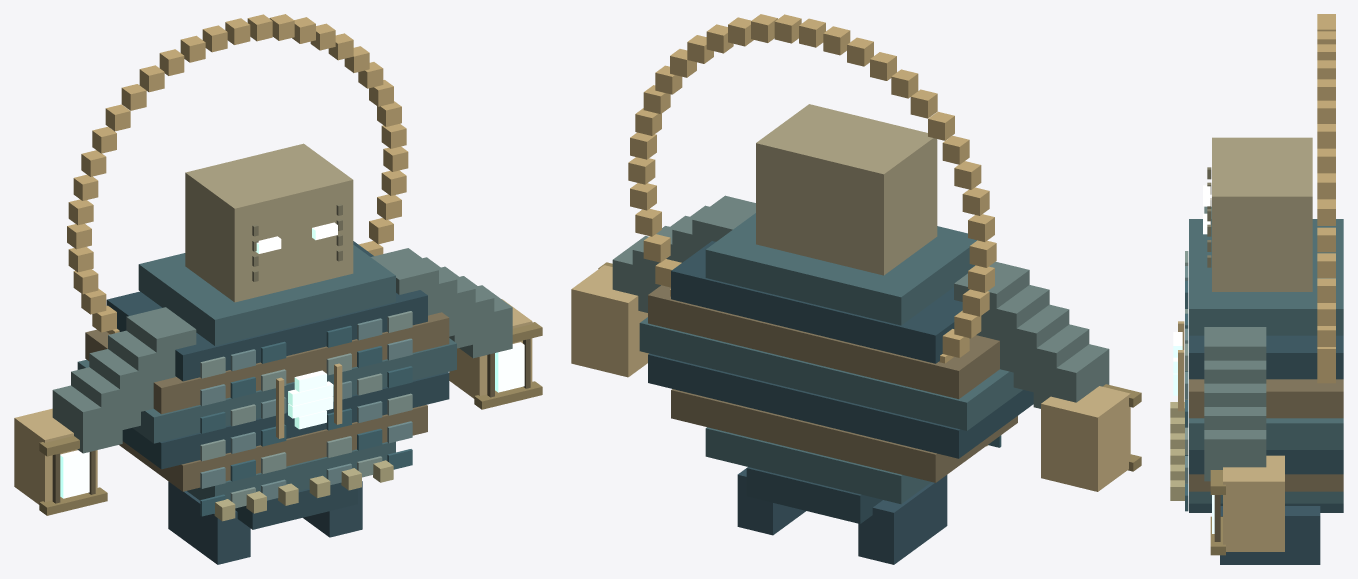
File: boss-tide.glb
3 views of the same model, side by side, from view 1: azimuth 30°, elevation 25°; view 2: azimuth 150°, elevation 25°; view 3: azimuth 270°, elevation 25° (orthographic). The views are drawn at different scales.
Parts seen in each view (by area): view 1: Astral_Armor, Lantern_Mask, Articulated_Arms, Astral_Halo, Inlaid_Armor_Tiles, Tidal_Lantern, Pedestal_Feet, Lantern_Rims, Tidal_Flame, Chest_Stars, Chest_Astrolabe, Lantern_Guards (+2 smaller); view 2: Astral_Armor, Lantern_Mask, Astral_Halo, Articulated_Arms, Tidal_Lantern, Pedestal_Feet; view 3: Astral_Armor, Lantern_Mask, Articulated_Arms, Astral_Halo, Tidal_Lantern, Pedestal_Feet, Chest_Stars, Inlaid_Armor_Tiles, Lantern_Rims, Astrolabe_Frame, Chest_Astrolabe, Weathered_Mask_Grooves (+2 smaller).
Boxes of the visible parts, x1=… form: Astral_Armor: x1=77, y1=241, x2=456, y2=529; Lantern_Mask: x1=185, y1=143, x2=353, y2=302; Articulated_Arms: x1=52, y1=248, x2=512, y2=453; Astral_Halo: x1=67, y1=14, x2=408, y2=334; Inlaid_Armor_Tiles: x1=200, y1=311, x2=412, y2=516; Tidal_Lantern: x1=14, y1=299, x2=532, y2=504; Pedestal_Feet: x1=168, y1=481, x2=362, y2=564; Lantern_Rims: x1=39, y1=322, x2=542, y2=515; Tidal_Flame: x1=60, y1=342, x2=524, y2=498; Chest_Stars: x1=214, y1=460, x2=393, y2=521; Chest_Astrolabe: x1=288, y1=370, x2=333, y2=429; Lantern_Guards: x1=52, y1=338, x2=530, y2=503; Astral_Armor: x1=639, y1=213, x2=1033, y2=523; Lantern_Mask: x1=756, y1=104, x2=937, y2=275; Astral_Halo: x1=628, y1=14, x2=996, y2=363; Articulated_Arms: x1=612, y1=195, x2=1109, y2=408; Tidal_Lantern: x1=571, y1=265, x2=1130, y2=491; Pedestal_Feet: x1=737, y1=468, x2=947, y2=564; Astral_Armor: x1=1189, y1=219, x2=1343, y2=512; Lantern_Mask: x1=1212, y1=137, x2=1312, y2=291; Articulated_Arms: x1=1204, y1=206, x2=1266, y2=481; Astral_Halo: x1=1317, y1=14, x2=1335, y2=383; Tidal_Lantern: x1=1223, y1=455, x2=1284, y2=551; Pedestal_Feet: x1=1220, y1=506, x2=1320, y2=564; Chest_Stars: x1=1170, y1=402, x2=1184, y2=500; Inlaid_Armor_Tiles: x1=1185, y1=251, x2=1188, y2=511; Lantern_Rims: x1=1210, y1=470, x2=1225, y2=555; Astrolabe_Frame: x1=1178, y1=321, x2=1184, y2=411; Chest_Astrolabe: x1=1173, y1=332, x2=1182, y2=395; Weathered_Mask_Grooves: x1=1207, y1=167, x2=1211, y2=267.
Bounding box in the file's own units: 3.76 × 3.52 × 1.12.
